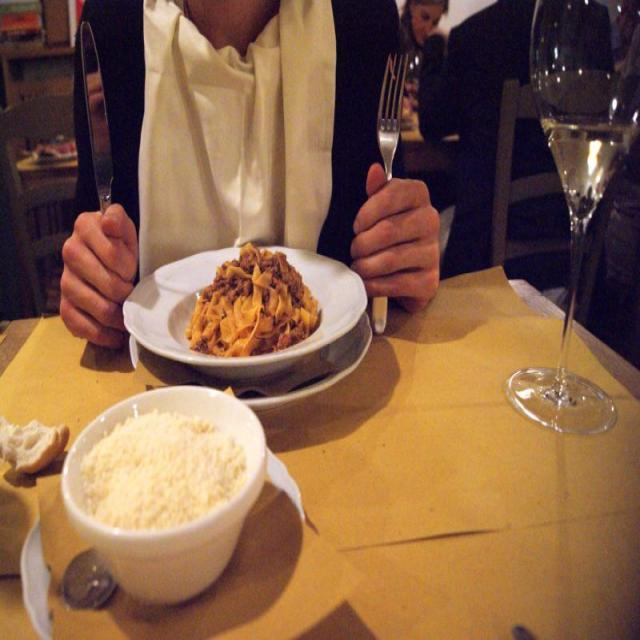Pasta al ragu: (186, 233, 318, 376)
